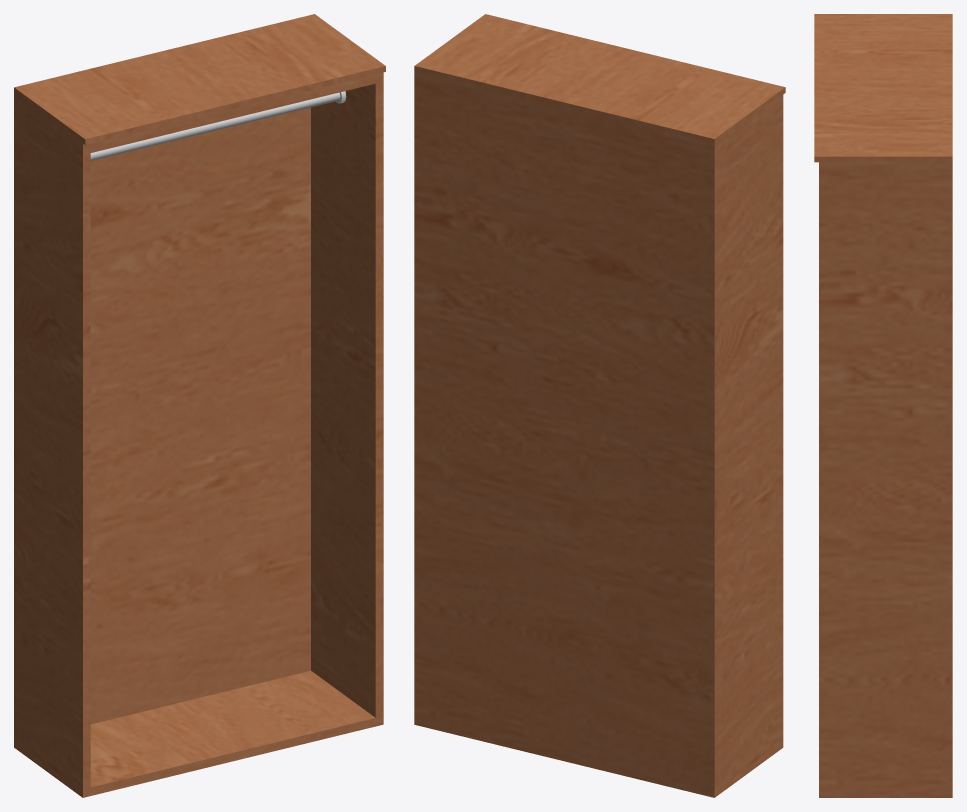
The model's file is Closet38.fbx.
3 renders of one model, left to right at view 1: azimuth 30°, elevation 25°; view 2: azimuth 150°, elevation 25°; view 3: azimuth 270°, elevation 25°, orthographic. The views are drawn at different scales.
Parts seen in each view (by area): view 1: Closet38; view 2: Closet38; view 3: Closet38.
Part boxes in pixels (x1,y1,x2,y2): Closet38: [14, 14, 385, 797]; Closet38: [414, 14, 785, 797]; Closet38: [814, 14, 952, 797].
Size of the model in its own units: 112 by 235 by 45.95.
